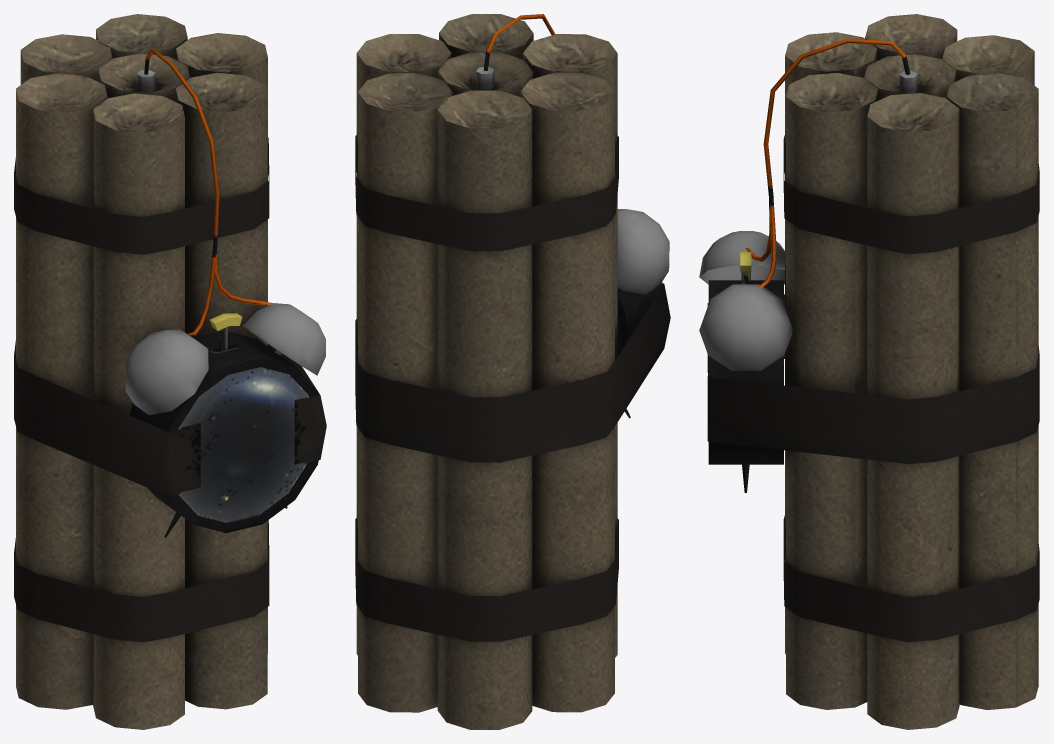
File: clock_bomb.obj
3 views of the same model, side by side, from view 1: azimuth 30°, elevation 25°; view 2: azimuth 150°, elevation 25°; view 3: azimuth 270°, elevation 25° (orthographic).
Parts seen in each view (by area): view 1: clock_bomb; view 2: clock_bomb; view 3: clock_bomb.
Boxes of the visible parts, box(x1,y1,x2,y2) form: clock_bomb: box(14, 14, 326, 729); clock_bomb: box(355, 14, 670, 729); clock_bomb: box(699, 14, 1039, 729).
Bounding box in the file's own units: 30 × 73.93 × 36.15.
1 material, 1 textured.
